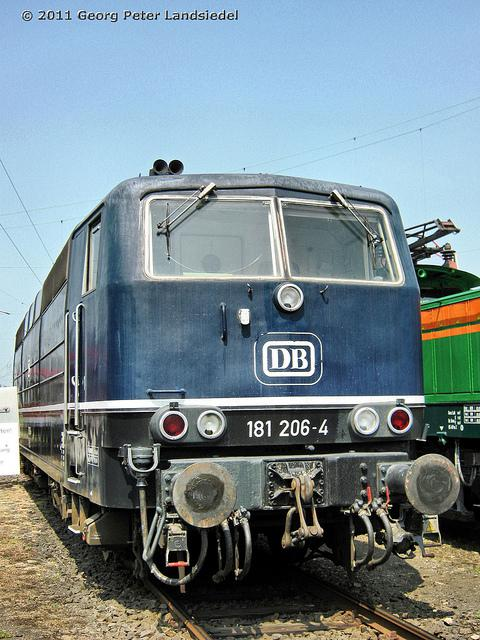Train: (5, 173, 473, 581), (415, 258, 480, 520)
